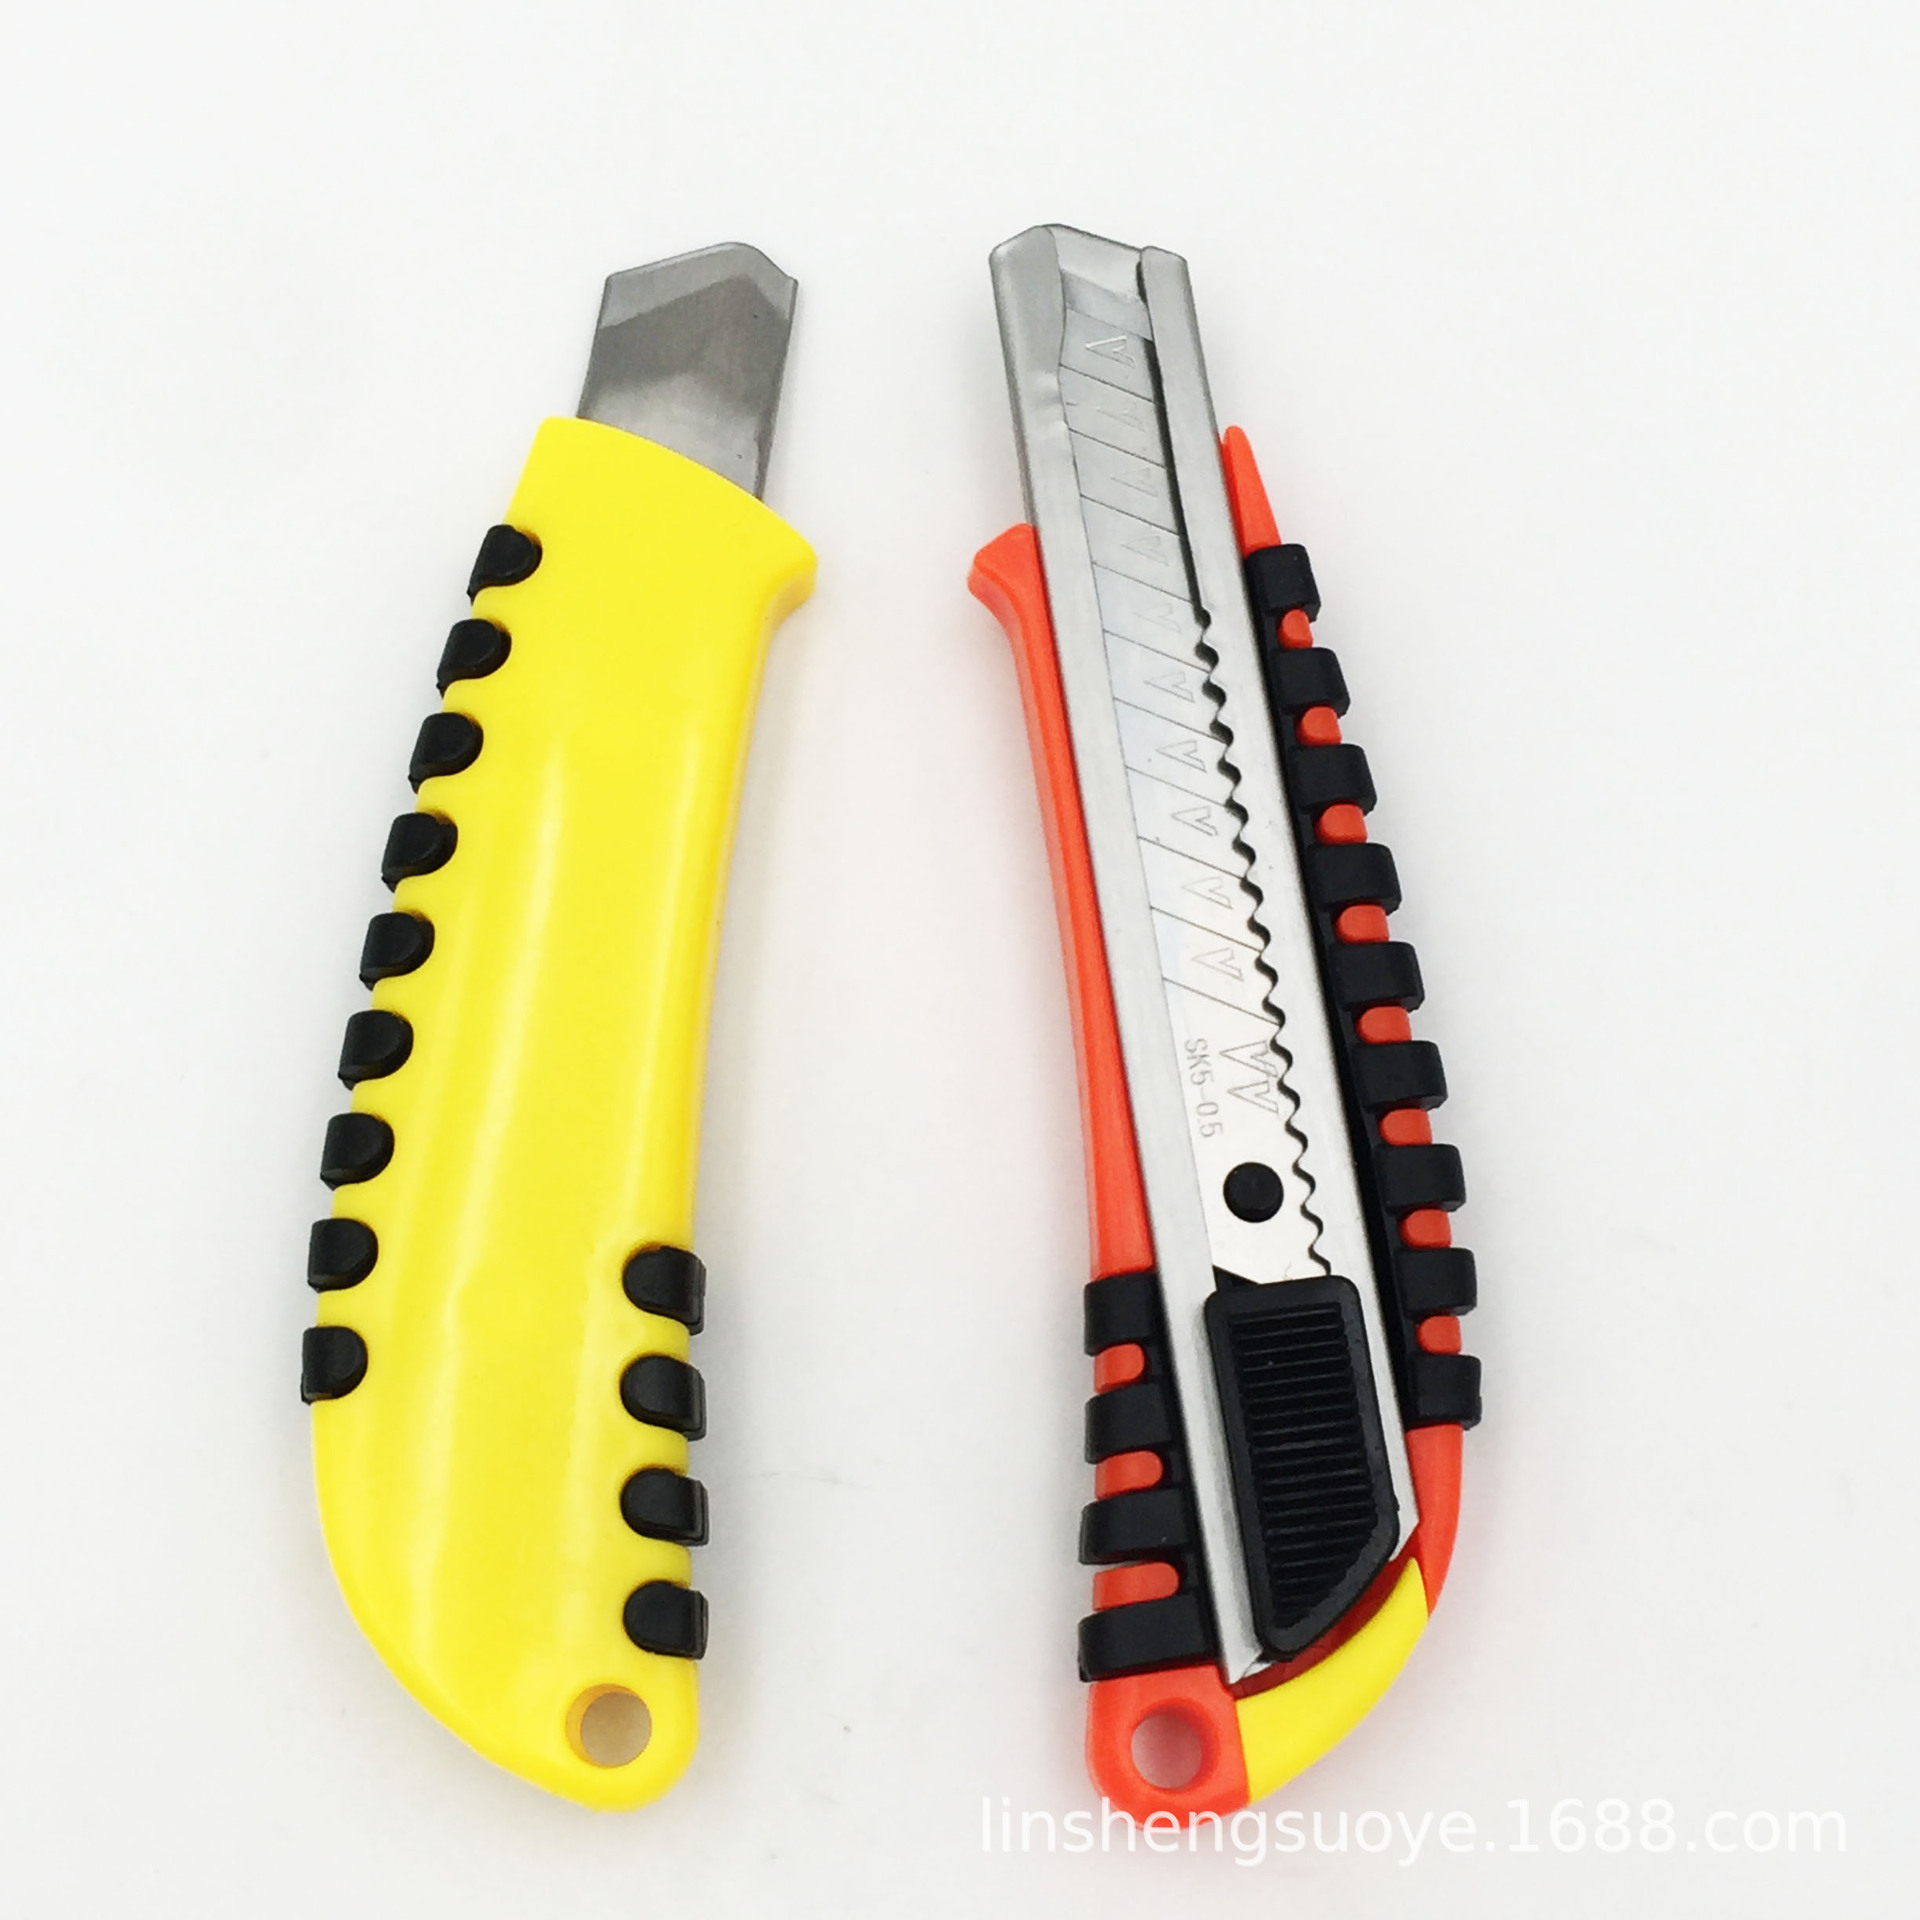cutter: (958, 223, 1487, 1836), (297, 234, 826, 1825)
